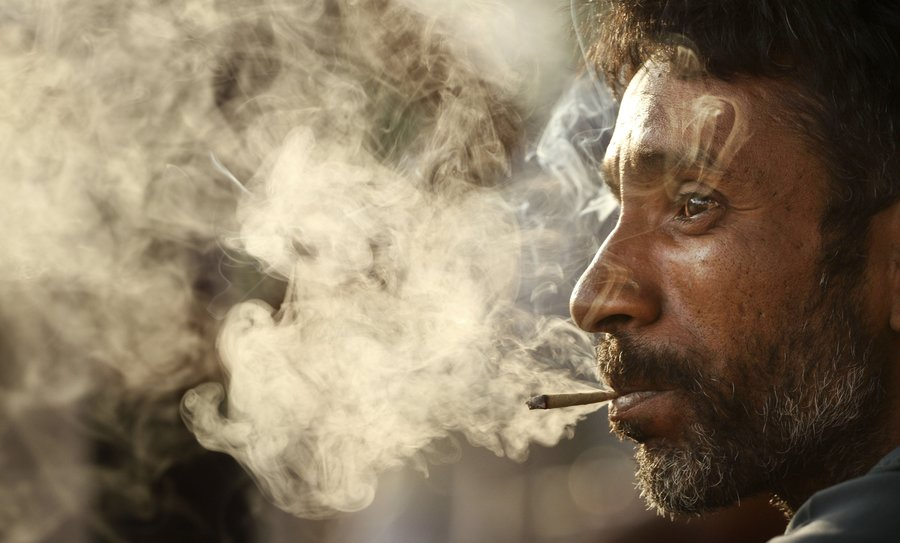cigarette: (516, 375, 637, 422)
